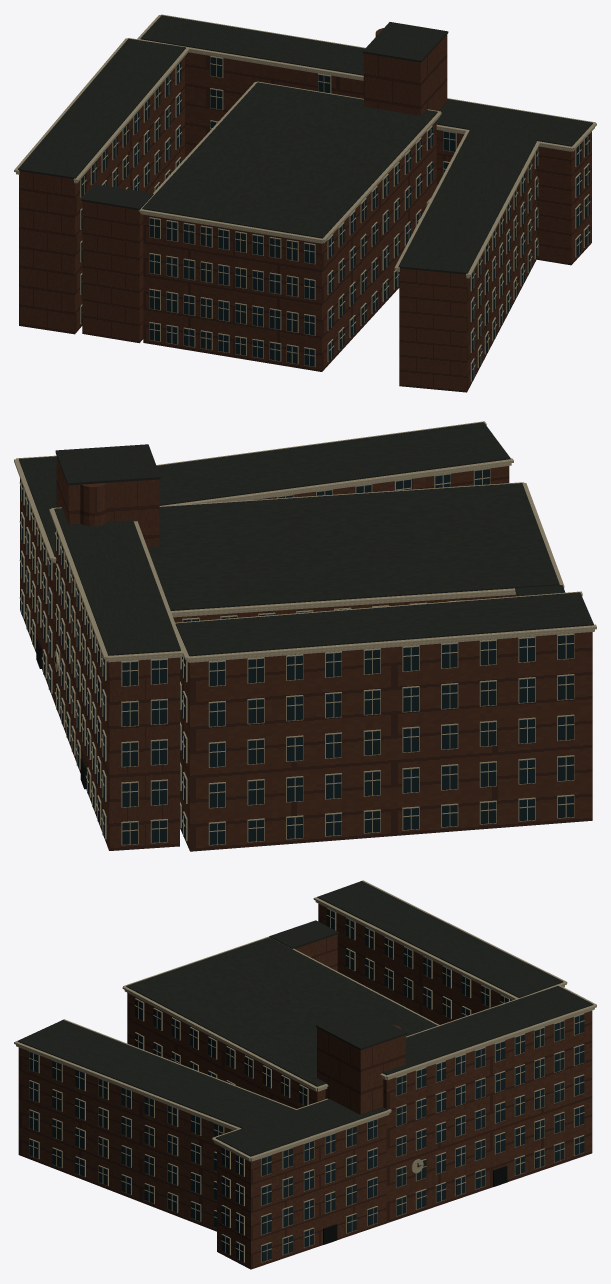
The picture shows the model from 3 angles, top to bottom: view 1: azimuth 30°, elevation 25°; view 2: azimuth 150°, elevation 25°; view 3: azimuth 270°, elevation 25°; orthographic projection. The views are drawn at different scales.
Visible parts, largest first — view 1: telefoondienst-botersloot-0, telefoondienst-botersloot-4, telefoondienst-botersloot-1, telefoondienst-botersloot-2; view 2: telefoondienst-botersloot-4, telefoondienst-botersloot-0, telefoondienst-botersloot-1, telefoondienst-botersloot-2; view 3: telefoondienst-botersloot-0, telefoondienst-botersloot-4, telefoondienst-botersloot-2, telefoondienst-botersloot-1, telefoondienst-botersloot-3.
Boxes of the visible parts, <box> form: telefoondienst-botersloot-0: <box>19,28,591,392</box>; telefoondienst-botersloot-4: <box>18,15,592,274</box>; telefoondienst-botersloot-1: <box>14,14,596,381</box>; telefoondienst-botersloot-2: <box>81,57,589,380</box>; telefoondienst-botersloot-4: <box>19,422,593,656</box>; telefoondienst-botersloot-0: <box>20,456,592,851</box>; telefoondienst-botersloot-1: <box>14,421,596,845</box>; telefoondienst-botersloot-2: <box>20,469,573,844</box>; telefoondienst-botersloot-0: <box>18,903,592,1269</box>; telefoondienst-botersloot-4: <box>17,881,593,1156</box>; telefoondienst-botersloot-2: <box>29,909,584,1261</box>; telefoondienst-botersloot-1: <box>14,880,596,1262</box>; telefoondienst-botersloot-3: <box>323,1163,507,1244</box>.
Size of the model in its own units: 74.1 by 25.74 by 75.14.
5 materials, 5 textured.
